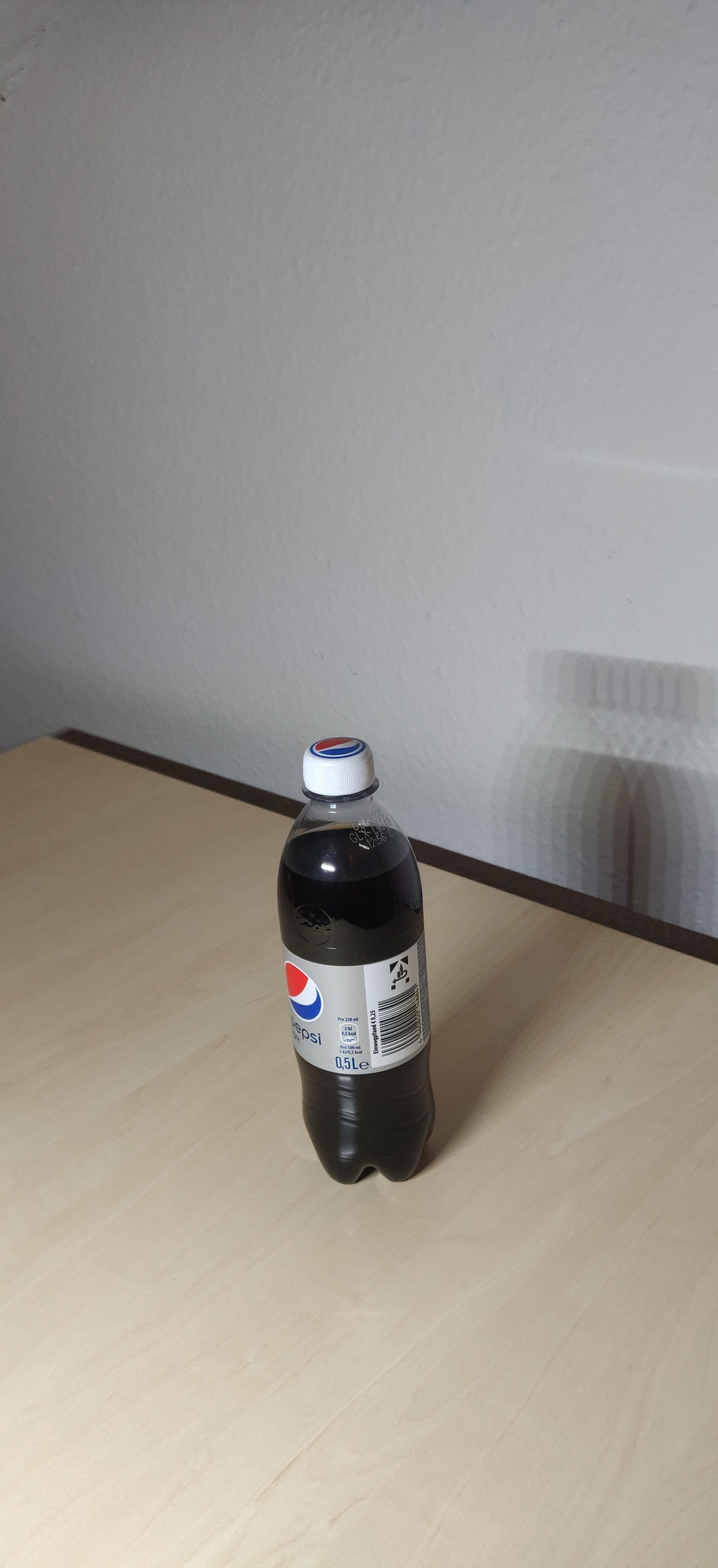bottle-plastic: (276, 736, 441, 1187)
